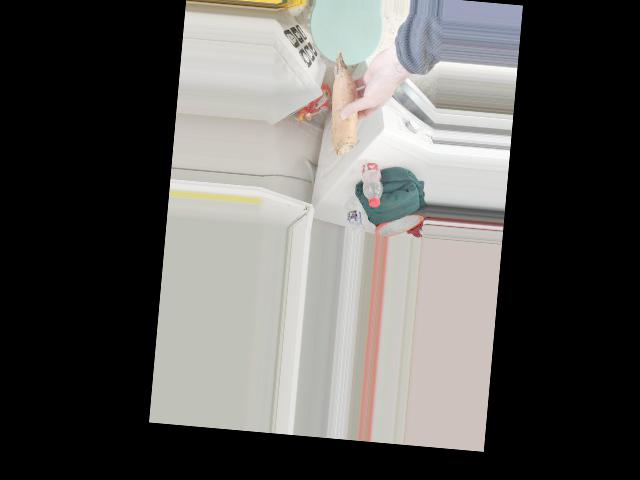sweet_potato: (324, 50, 370, 161)
